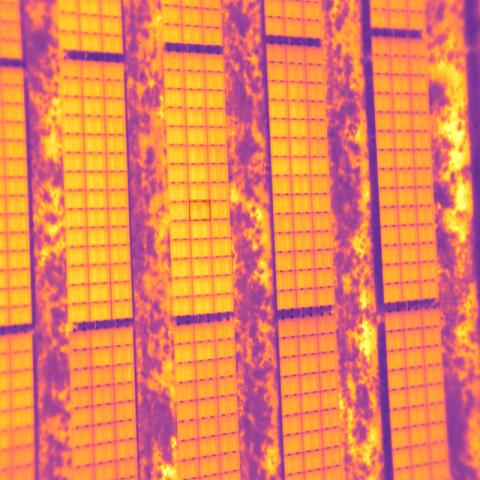fault: (189, 199, 211, 221)
